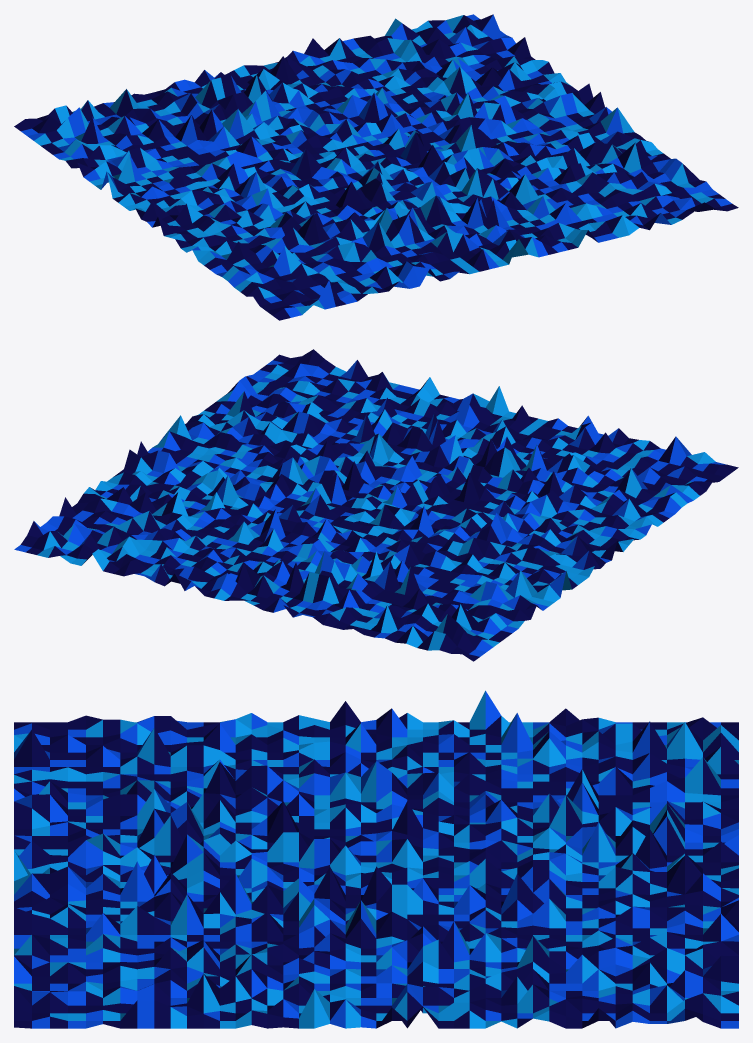
Rendered from l2csterrain.fbx.
3 renders of one model, top to bottom at view 1: azimuth 30°, elevation 25°; view 2: azimuth 150°, elevation 25°; view 3: azimuth 270°, elevation 25°, orthographic. The views are drawn at different scales.
Visible parts, largest first — view 1: Plane; view 2: Plane; view 3: Plane.
Part boxes in pixels (<box>): Plane: <box>14,14,738,320</box>; Plane: <box>14,349,738,661</box>; Plane: <box>14,690,738,1028</box>.
Size of the model in its own units: 1000 by 53.61 by 1000.
